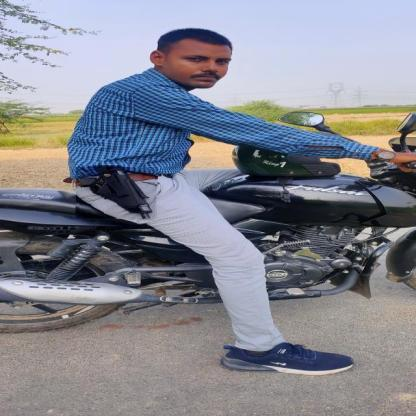handgun: (76, 166, 158, 219)
